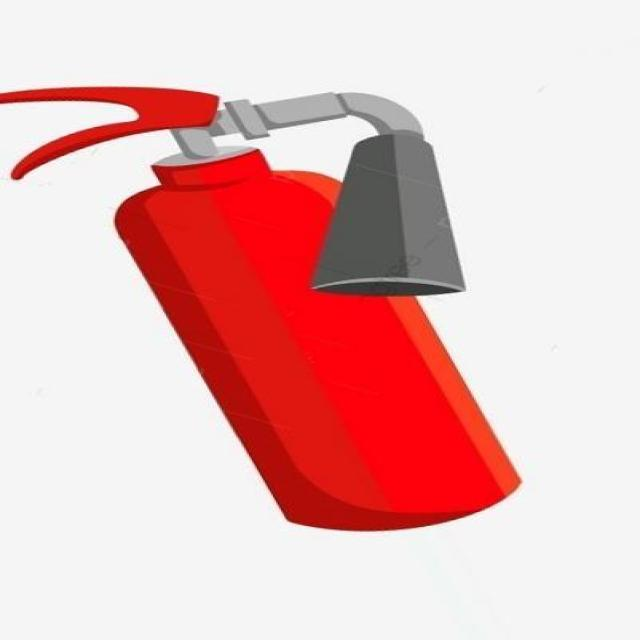fire_extinguisher: (0, 81, 527, 537)
